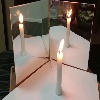fire: (59, 38, 64, 56)
